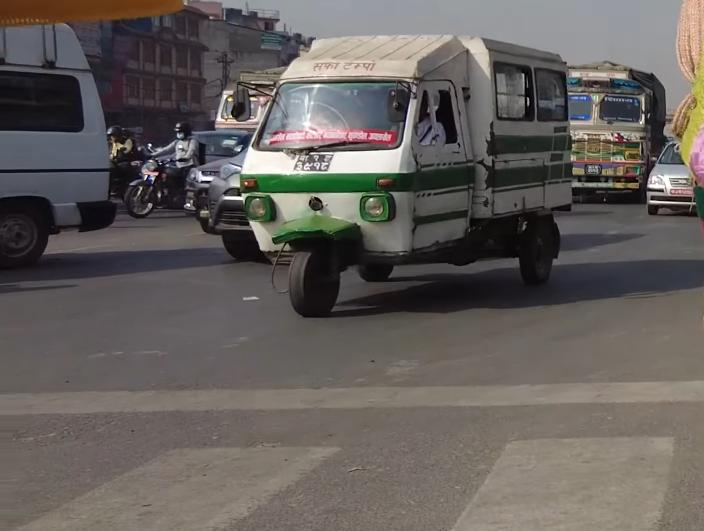bike: (124, 148, 202, 218)
car: (648, 135, 704, 215)
micro_bus: (0, 22, 122, 268)
tempo: (228, 21, 576, 332)
truck: (561, 58, 667, 203)
